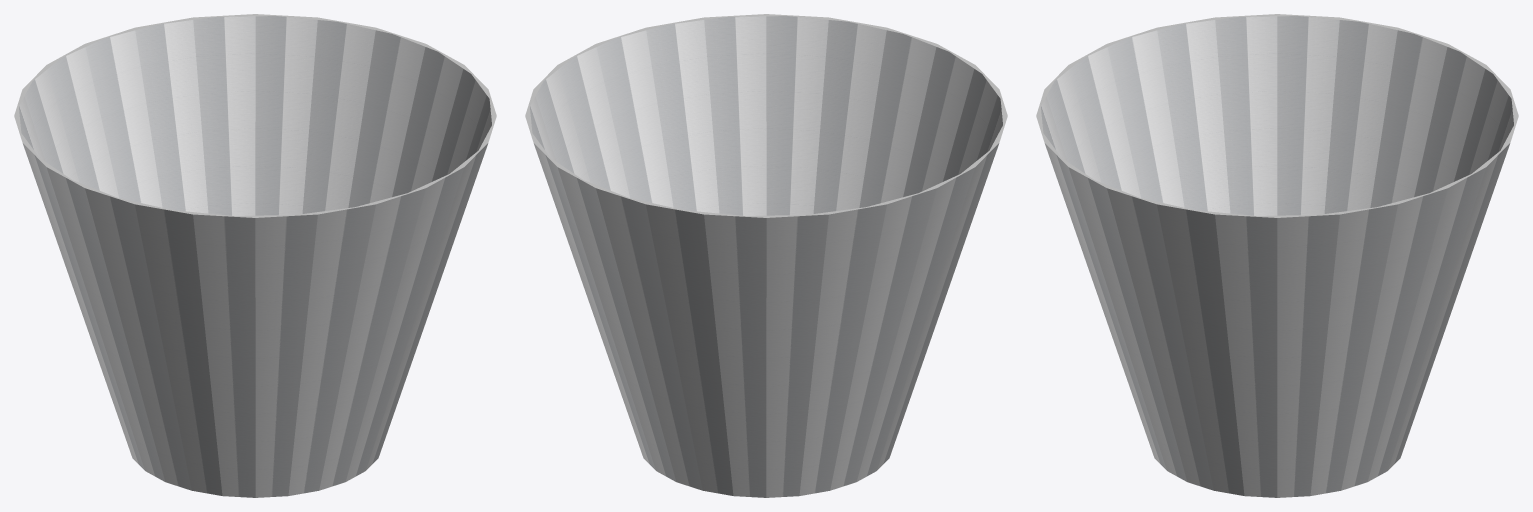
The picture shows the model from 3 angles, left to right: view 1: azimuth 30°, elevation 25°; view 2: azimuth 150°, elevation 25°; view 3: azimuth 270°, elevation 25°; orthographic projection.
Parts seen in each view (by area): view 1: mesh1_mesh1-geometry; view 2: mesh1_mesh1-geometry; view 3: mesh1_mesh1-geometry.
Part boxes in pixels (x1=…): mesh1_mesh1-geometry: x1=14, y1=14, x2=496, y2=497; mesh1_mesh1-geometry: x1=525, y1=14, x2=1007, y2=497; mesh1_mesh1-geometry: x1=1036, y1=14, x2=1518, y2=497.
Bounding box in the file's own units: 0.6247 × 0.4685 × 0.6247.
